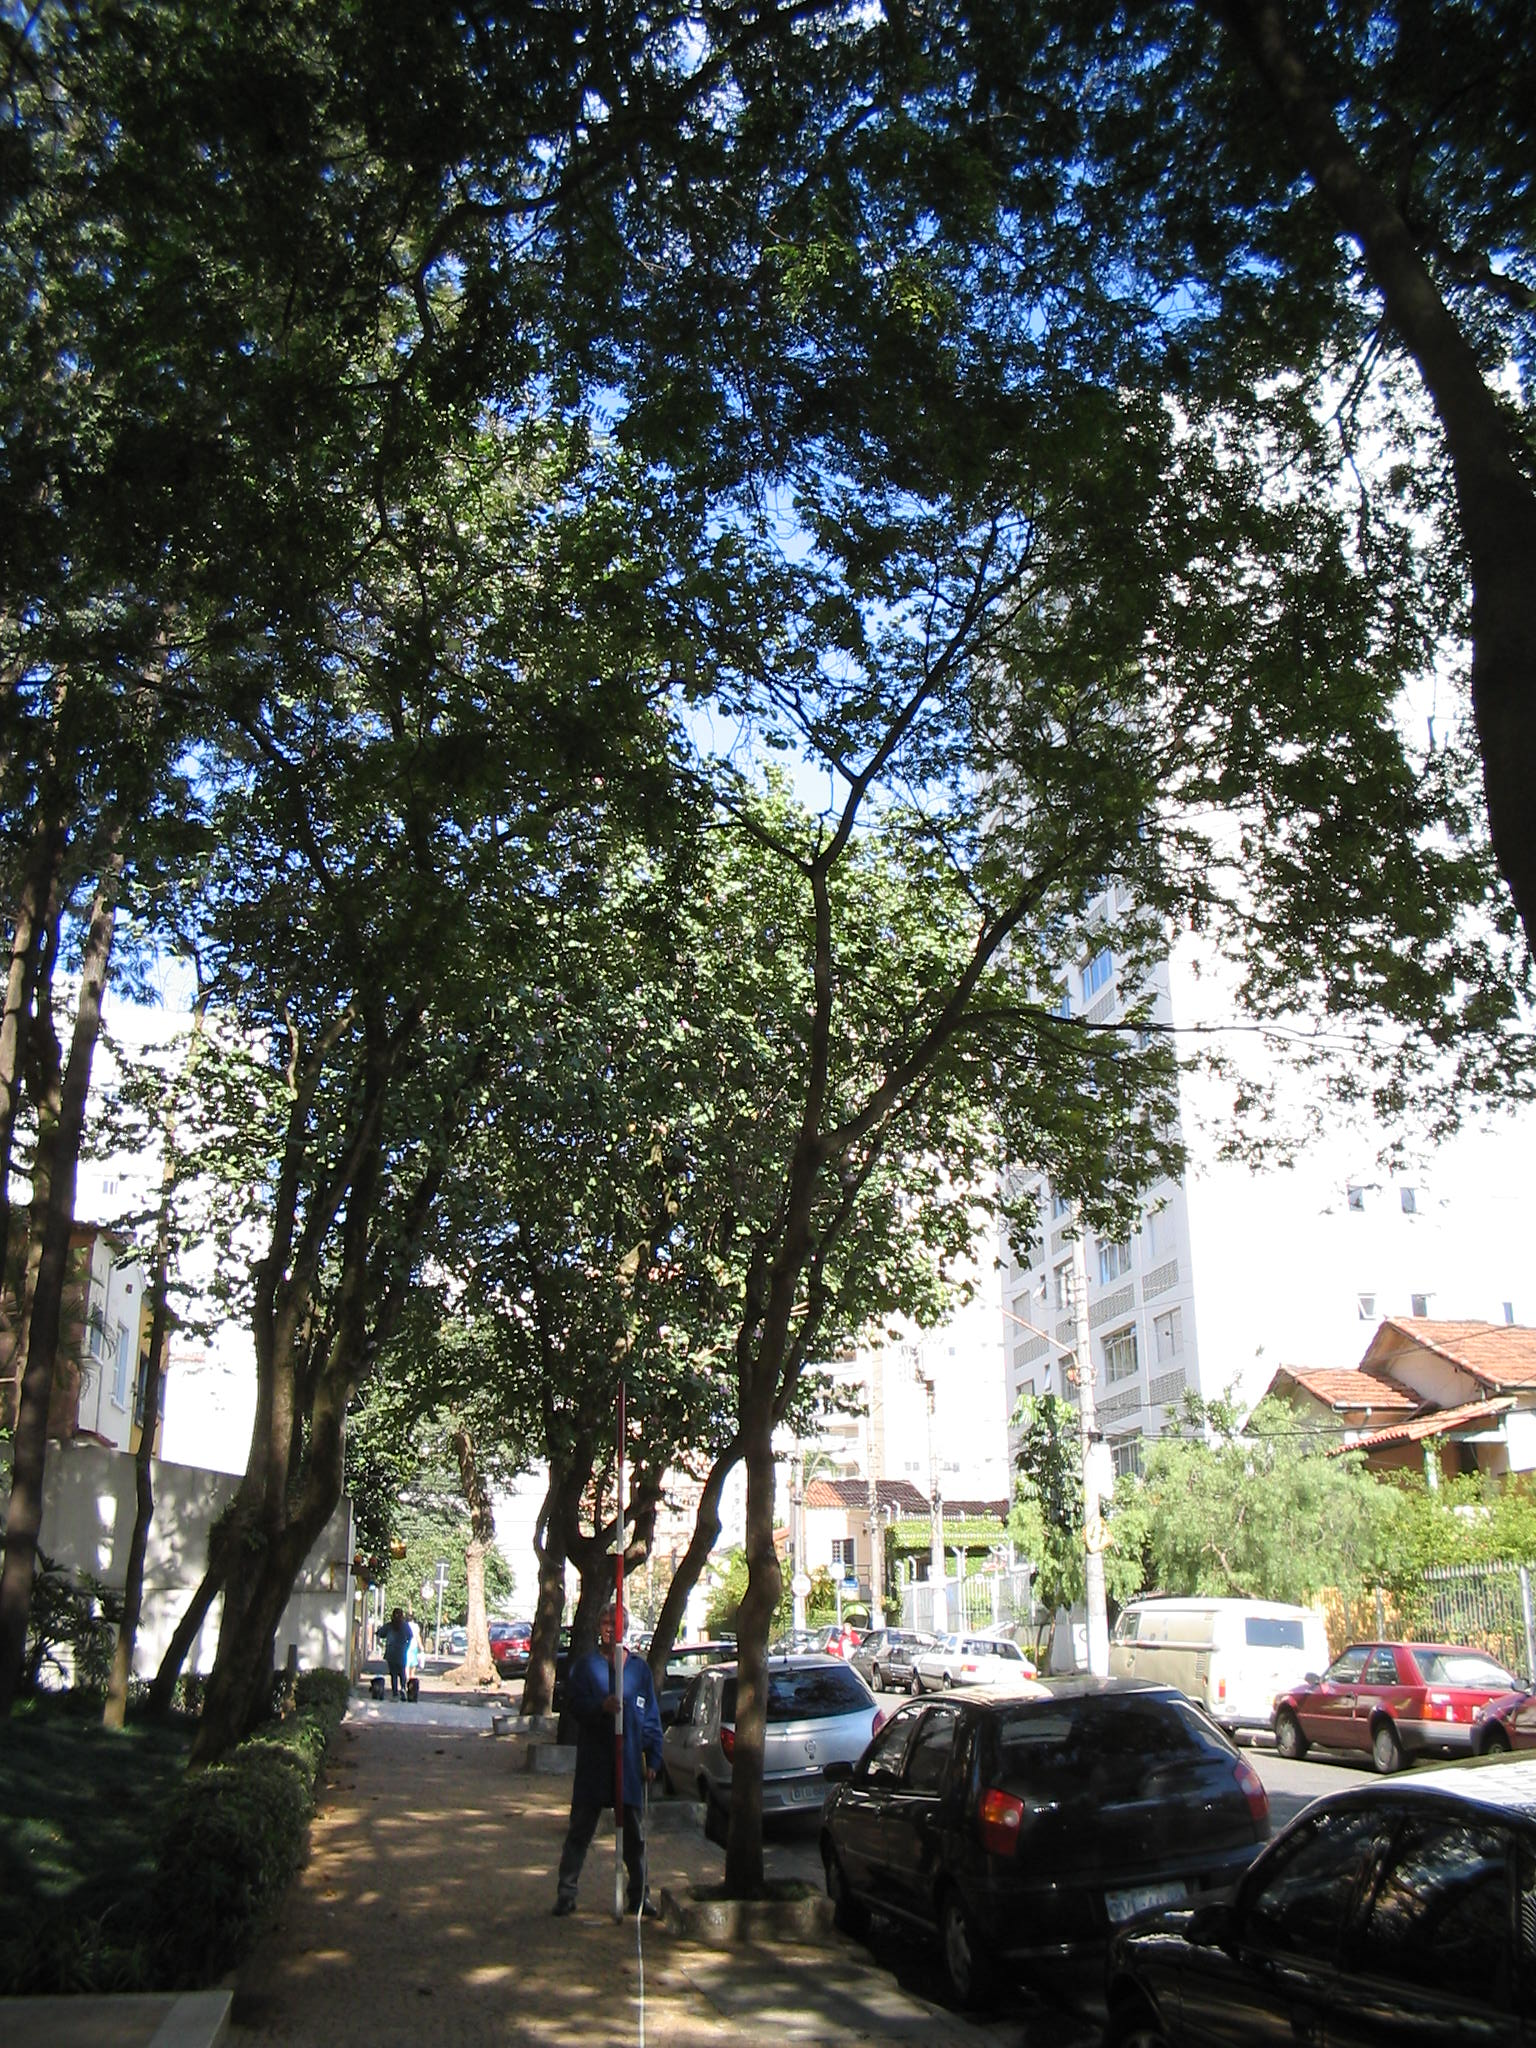stick: (603, 1379, 649, 1924)
